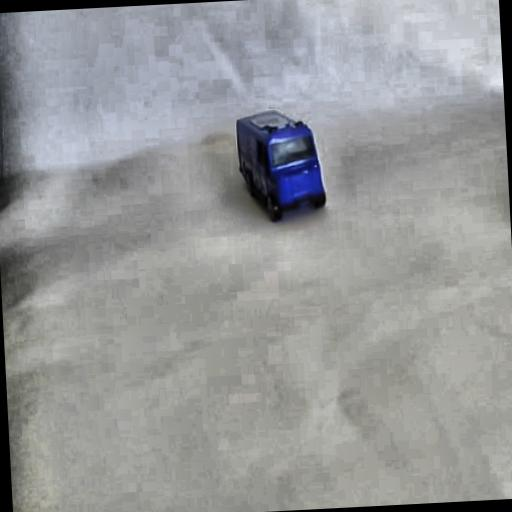police car: (232, 109, 330, 222)
